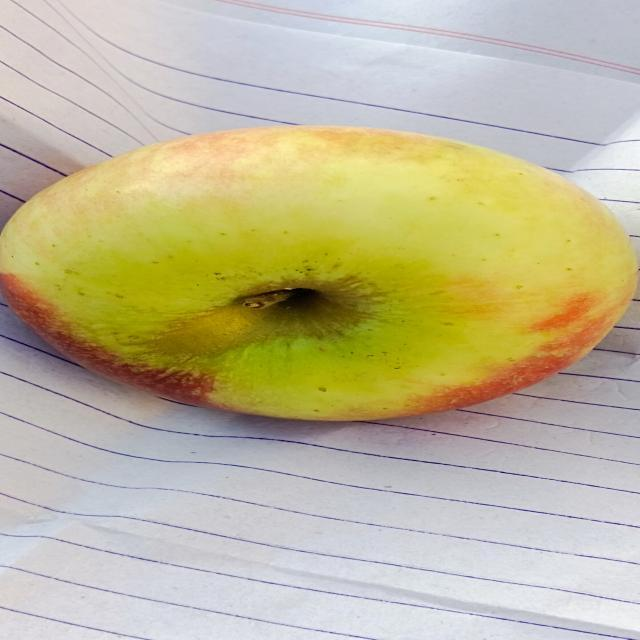Fresh Apple: (0, 131, 640, 439)
